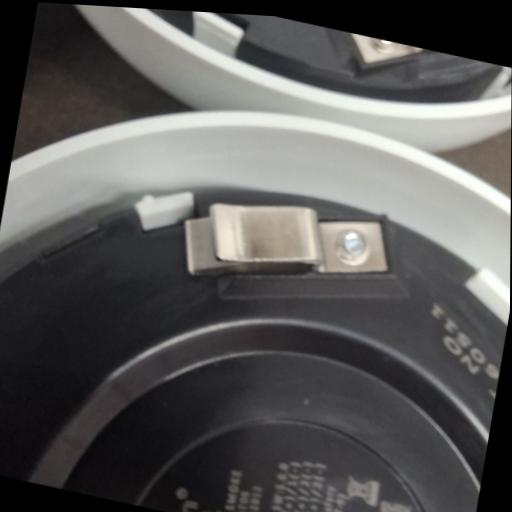yayli: (173, 175, 398, 319)
